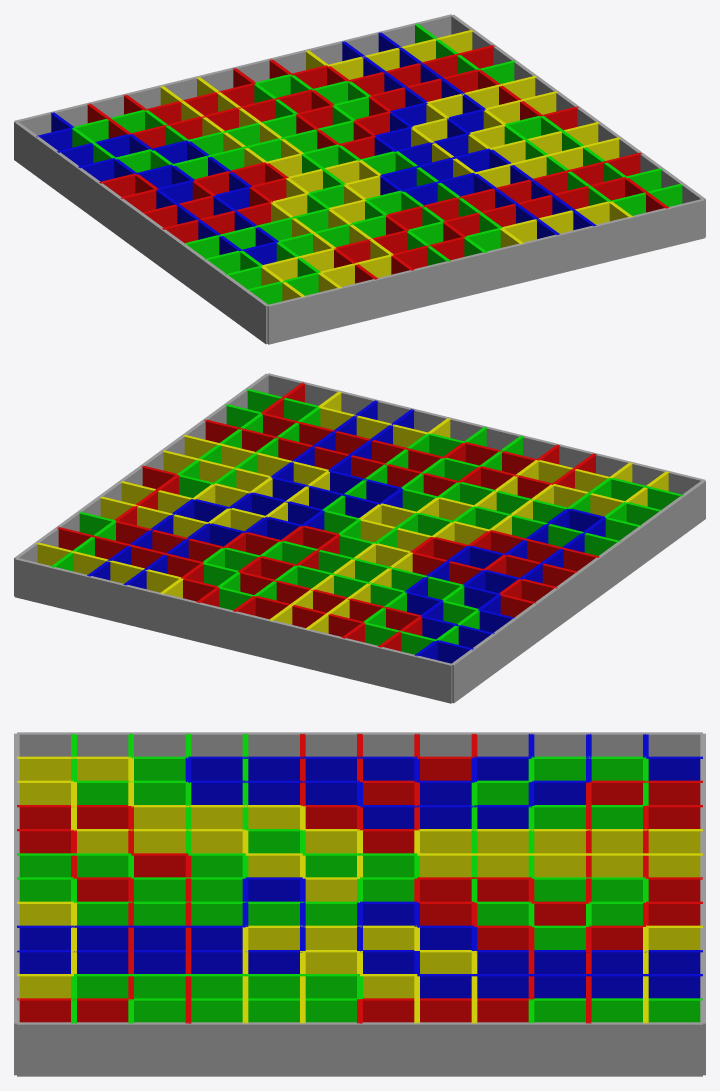
Rendered from ColorMazeRev1.fbx.
The picture shows the model from 3 angles, top to bottom: view 1: azimuth 30°, elevation 25°; view 2: azimuth 150°, elevation 25°; view 3: azimuth 270°, elevation 25°; orthographic projection. The views are drawn at different scales.
Visible parts, largest first — view 1: pCube42, pCube44, pCube43, pCube45, pCube187, pCube241, pCube277, pCube245, pCube246, pCube261, pCube284, pCube302 (+124 smaller); view 2: pCube43, pCube44, pCube42, pCube45, pCube241, pCube267, pCube227, pCube245, pCube183, pCube201, pCube182, pCube307 (+124 smaller); view 3: pCube45, pCube44, pCube42, pCube43, pCube72, pCube60, pCube149, pCube136, pCube96, pCube122, pCube57, pCube132 (+124 smaller).
Boxes of the visible parts, x1,y1,x2,y2 form: pCube42: [267, 199, 705, 344]; pCube44: [14, 121, 269, 344]; pCube43: [14, 14, 451, 135]; pCube45: [451, 14, 705, 236]; pCube187: [239, 98, 276, 121]; pCube241: [344, 175, 381, 198]; pCube277: [390, 102, 427, 125]; pCube245: [453, 148, 490, 172]; pCube246: [583, 137, 620, 160]; pCube261: [386, 206, 423, 229]; pCube284: [218, 83, 255, 106]; pCube302: [303, 144, 339, 167]; pCube43: [14, 558, 452, 703]; pCube44: [450, 480, 705, 703]; pCube42: [267, 373, 705, 494]; pCube45: [14, 373, 269, 595]; pCube241: [380, 503, 417, 526]; pCube267: [443, 457, 480, 480]; pCube227: [646, 486, 683, 509]; pCube245: [271, 477, 308, 500]; pCube183: [166, 553, 203, 577]; pCube201: [296, 565, 333, 588]; pCube182: [436, 640, 473, 663]; pCube307: [250, 492, 286, 515]; pCube45: [17, 1022, 702, 1076]; pCube44: [17, 732, 702, 756]; pCube42: [14, 733, 19, 1075]; pCube43: [700, 733, 705, 1075]; pCube72: [646, 925, 702, 949]; pCube60: [646, 901, 702, 925]; pCube149: [646, 756, 702, 780]; pCube136: [646, 780, 702, 804]; pCube96: [646, 974, 702, 998]; pCube122: [646, 853, 702, 877]; pCube57: [646, 877, 702, 901]; pCube132: [646, 829, 702, 853].
Size of the model in its own units: 12.1 by 1 by 12.1.
